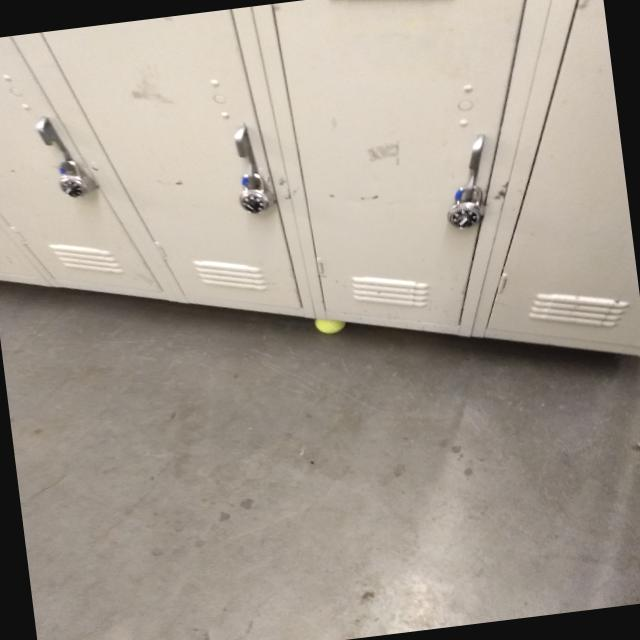Tennis Ball: (313, 316, 347, 336)
